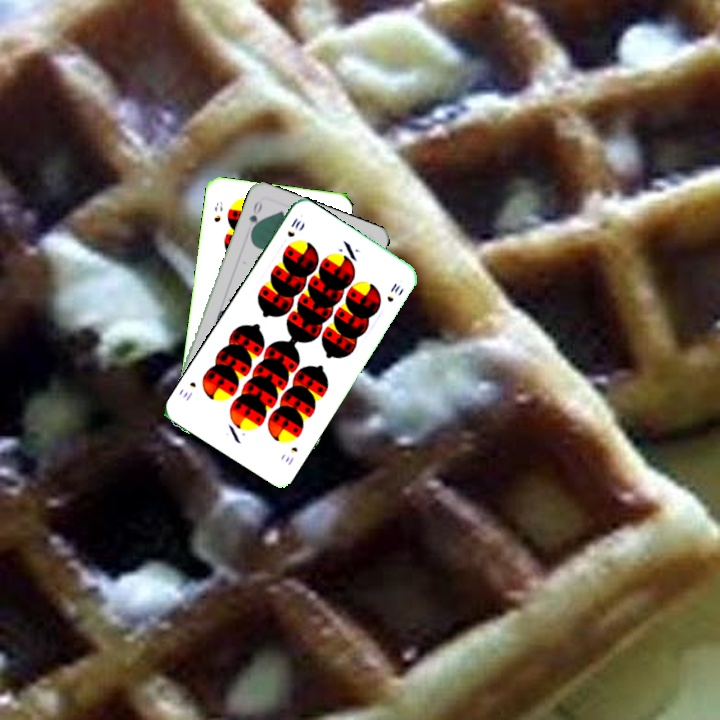GO: (245, 196, 265, 236)
S10: (283, 214, 304, 240), (281, 443, 300, 468)
S8: (210, 198, 226, 224)
